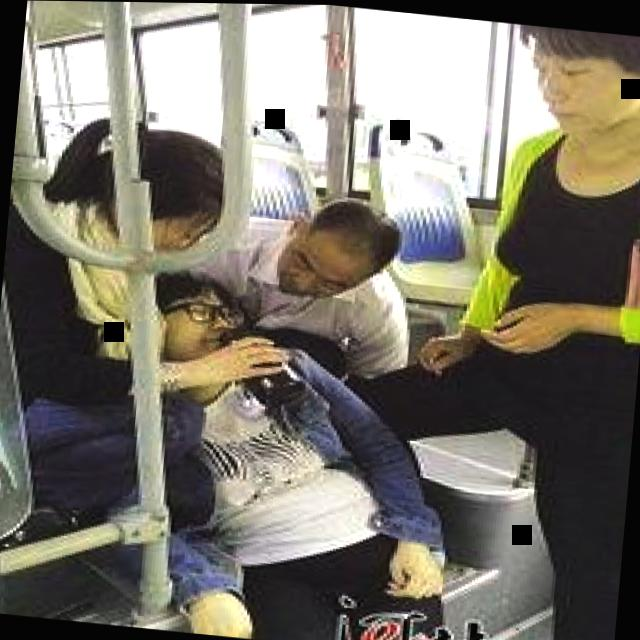Fall-Detected: (72, 242, 586, 640)
